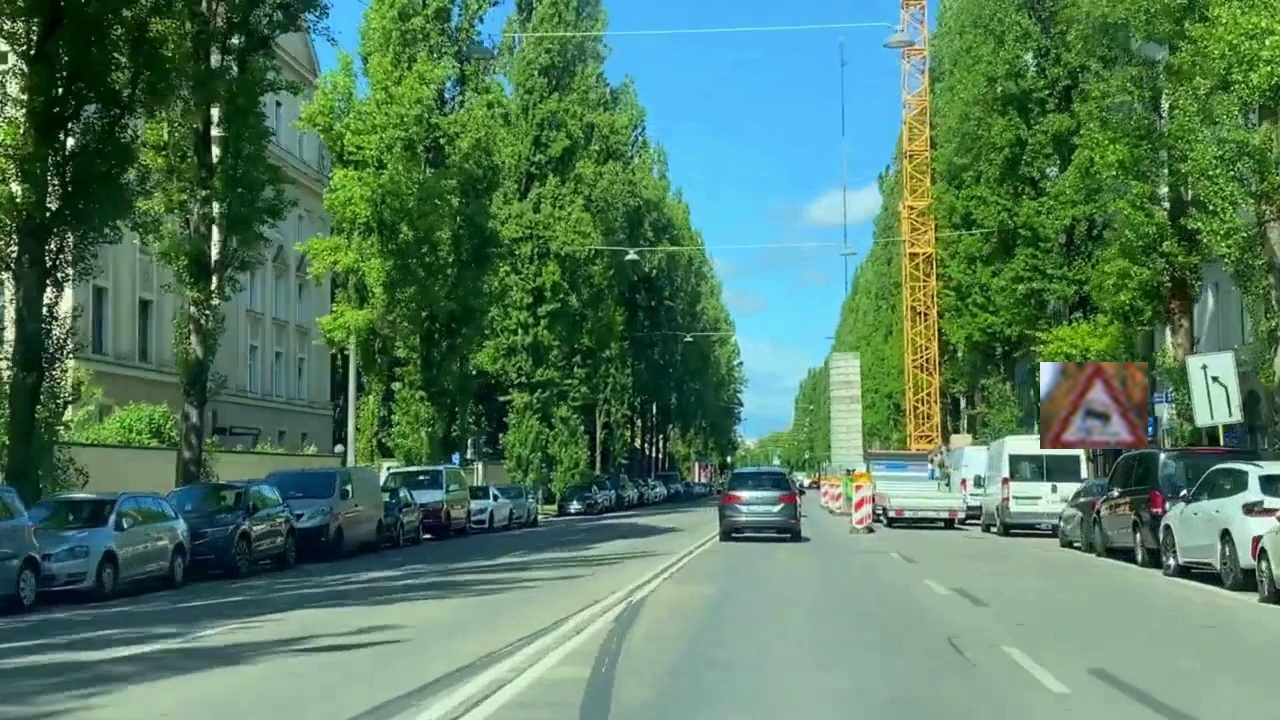Slippery: (1040, 362, 1148, 449)
